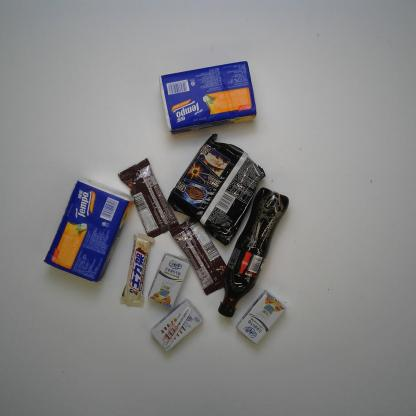Chocolate: (116, 157, 180, 239), (168, 214, 228, 296), (118, 231, 156, 310)
Drink: (217, 185, 293, 319)
Instant Noodles: (165, 132, 267, 246)
Milk: (149, 297, 204, 353), (236, 288, 287, 346), (147, 249, 193, 308)
Tissue: (43, 176, 135, 284), (158, 59, 260, 135)
